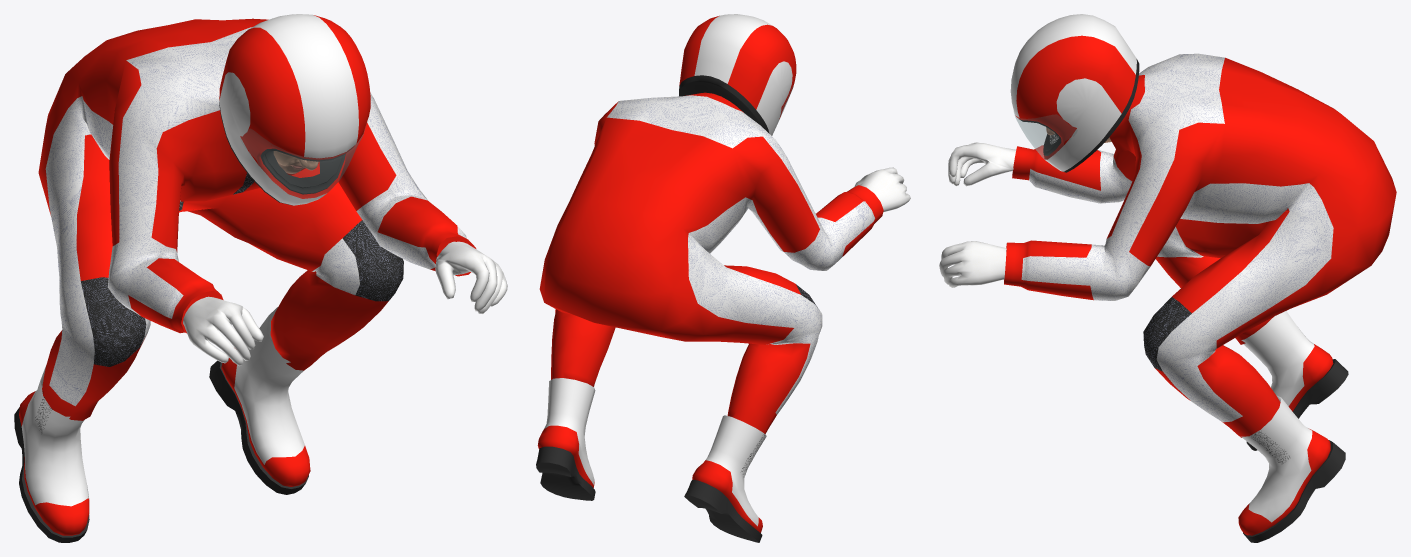
The model's file is Pilot.dae.
The picture shows the model from 3 angles, left to right: view 1: azimuth 30°, elevation 25°; view 2: azimuth 150°, elevation 25°; view 3: azimuth 270°, elevation 25°; orthographic projection. The views are drawn at different scales.
Parts seen in each view (by area): view 1: group_0 (×16), group_1 (×5); view 2: group_0 (×12), group_1 (×4); view 3: group_0 (×16), group_1 (×5).
Part boxes in pixels (x1,y1,x2,y2): group_0 (×16): (14,18,507,542); group_1 (×5): (219,14,370,205); group_0 (×12): (536,92,910,542); group_1 (×4): (679,14,796,135); group_0 (×16): (939,53,1396,542); group_1 (×5): (1010,14,1139,172).
Size of the model in its own units: 15.41 by 22.33 by 25.74.
